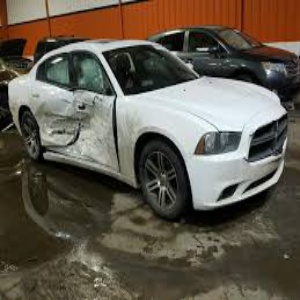door: (43, 88, 118, 173)
